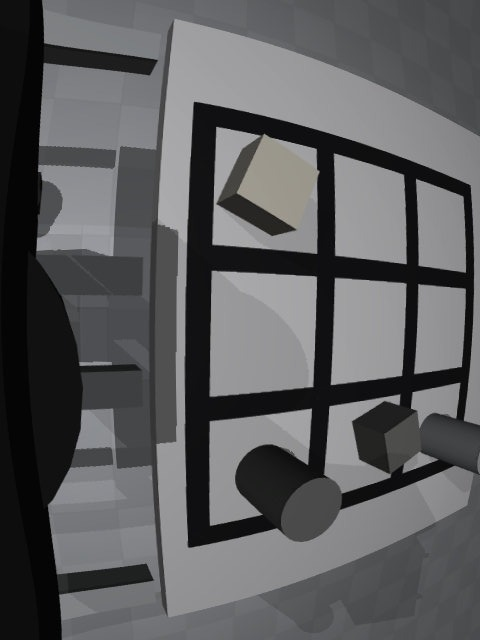can: (420, 413, 480, 475)
cube: (352, 401, 422, 474)
cylinder: (235, 444, 342, 542)
foam: (217, 134, 319, 236)
